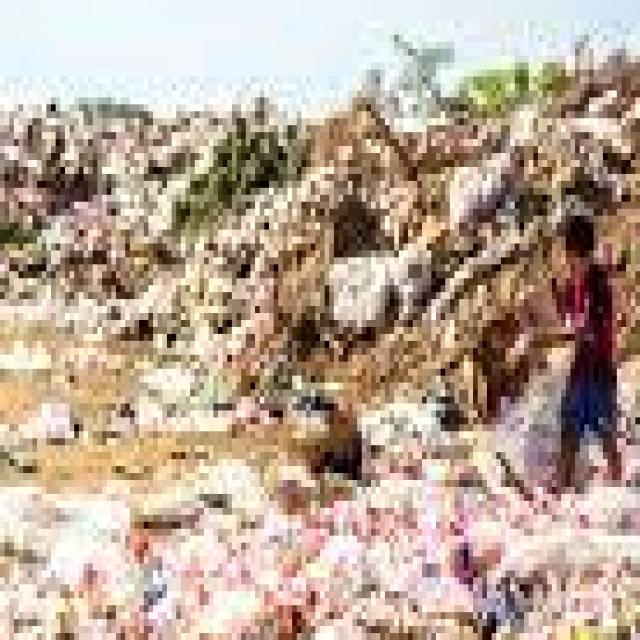-: (4, 466, 640, 640), (0, 97, 352, 312)
